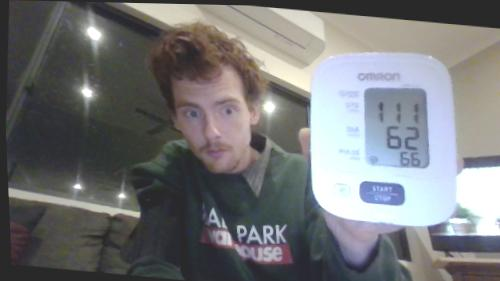bpm: (364, 85, 430, 170)
